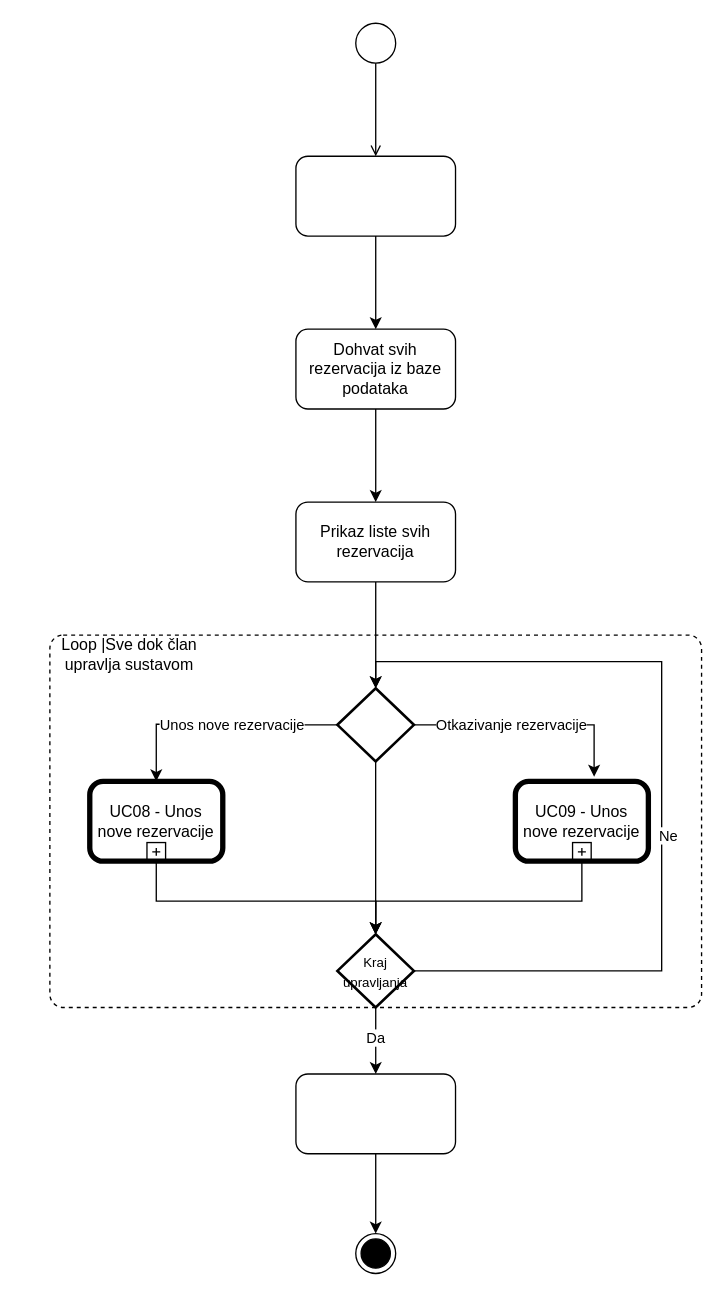
Image size: 725x1297. Some labels were removed from this diagram. The box of each missing label's shape, as (x1, y1, x2, y2) in pixels:
Odabir akcije: (335, 686, 415, 762)
Odabir ekrana za upravljanje rezervacijama: (295, 155, 456, 236)
Završetak upravljanja rezervacijama: (295, 1073, 456, 1154)
